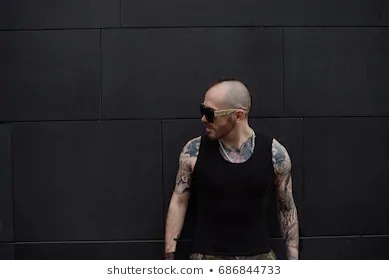C_tank top: (184, 125, 283, 258)
